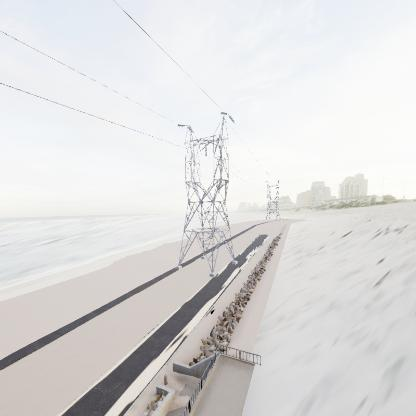tower: (172, 110, 240, 280)
